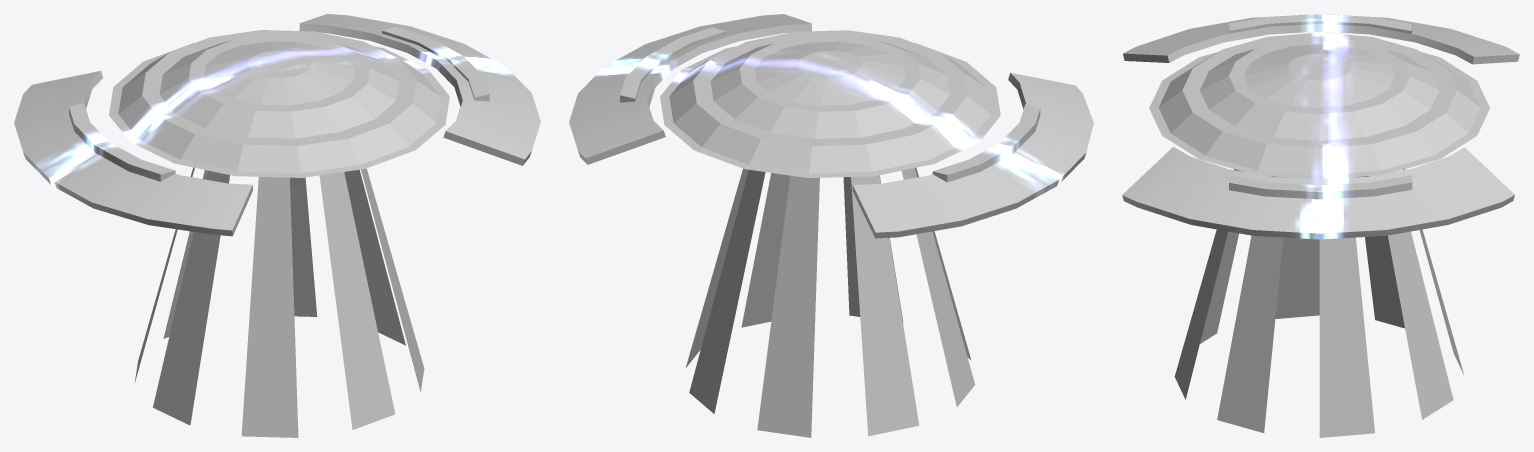
Rendered from UFO.fbx.
The picture shows the model from 3 angles, left to right: view 1: azimuth 30°, elevation 25°; view 2: azimuth 150°, elevation 25°; view 3: azimuth 270°, elevation 25°; orthographic projection.
Parts seen in each view (by area): view 1: UFO; view 2: UFO; view 3: UFO.
Part boxes in pixels (left/top/right/bottom): UFO: left=14, top=14, right=540, bottom=437; UFO: left=569, top=14, right=1093, bottom=437; UFO: left=1122, top=14, right=1519, bottom=437.
Size of what is drawn, in the model's own units: 10.07 by 6.59 by 7.67.
